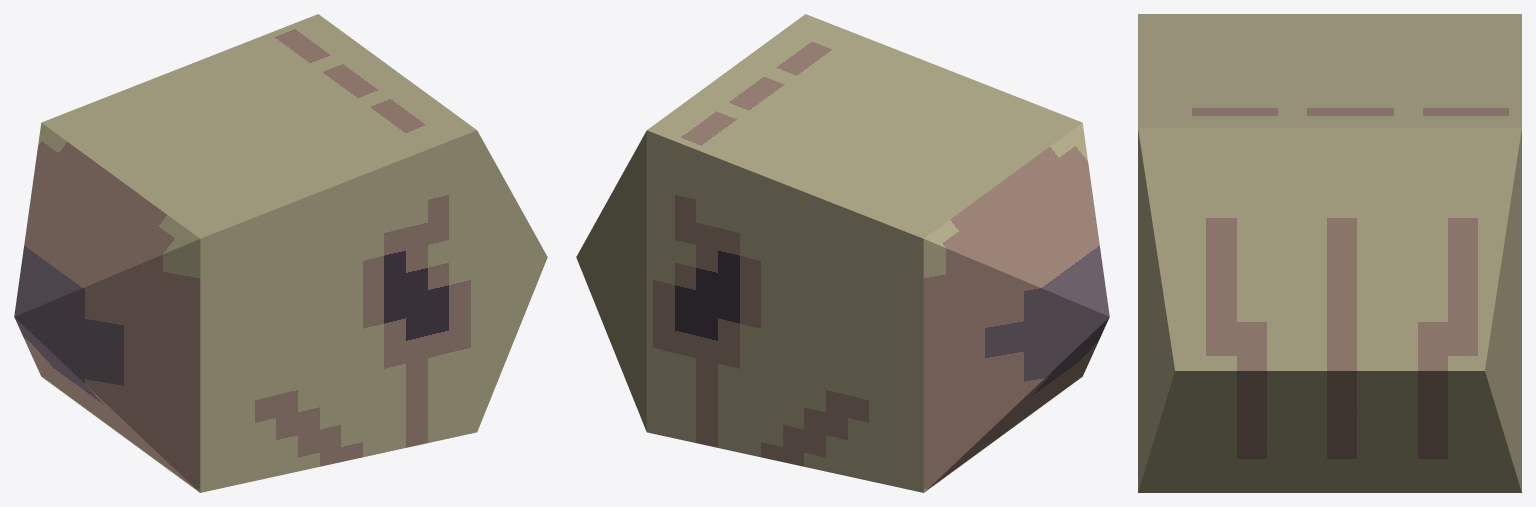
The model's file is character_fist.glb.
The picture shows the model from 3 angles, left to right: view 1: azimuth 30°, elevation 25°; view 2: azimuth 150°, elevation 25°; view 3: azimuth 270°, elevation 25°; orthographic projection. The views are drawn at different scales.
Visible parts, largest first — view 1: Cube.050; view 2: Cube.050; view 3: Cube.050.
Part boxes in pixels (x1,y1,x2,y2): Cube.050: [14, 14, 547, 492]; Cube.050: [576, 14, 1109, 492]; Cube.050: [1138, 14, 1521, 492].
Size of the model in its own units: 1.1 by 0.6755 by 0.6438.
Materials: 1 (1 with a texture image).
